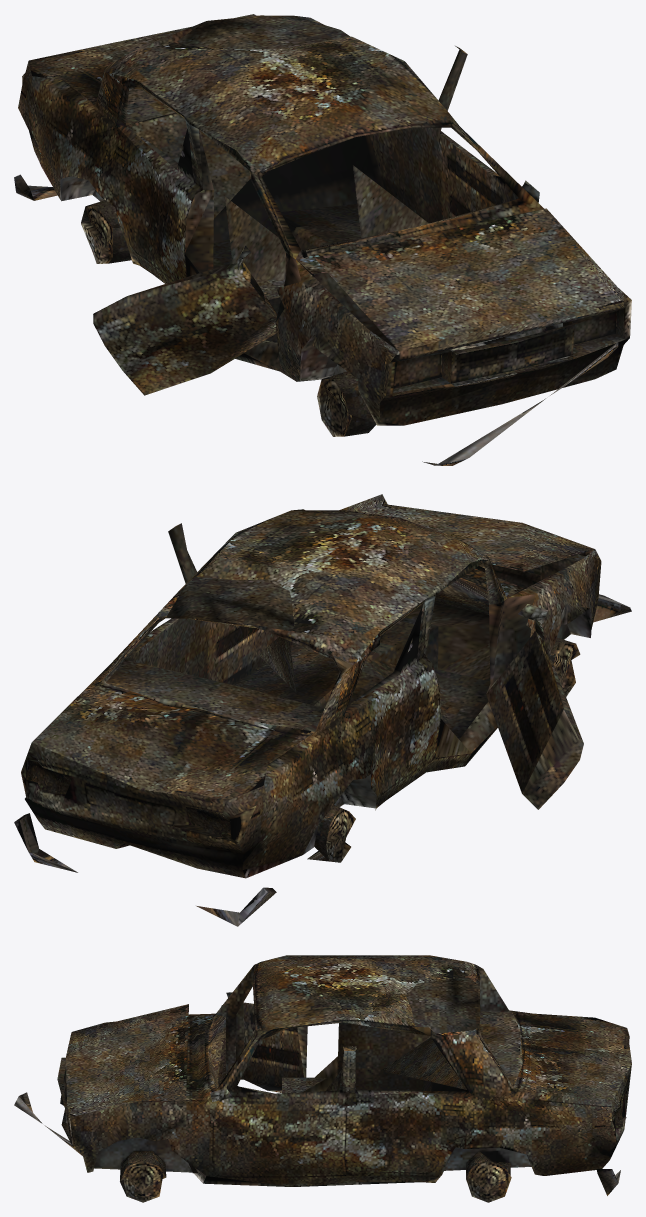
Rendered from car2_LOD1.FBX.
3 views of the same model, one above another, from view 1: azimuth 30°, elevation 25°; view 2: azimuth 150°, elevation 25°; view 3: azimuth 270°, elevation 25° (orthographic). The views are drawn at different scales.
Visible parts, largest first — view 1: car2; view 2: car2; view 3: car2.
Part boxes in pixels (x1,y1,x2,y2): car2: (14,14,631,465); car2: (14,494,631,926); car2: (14,955,631,1202).
Bounding box in the file's own units: 27.85 × 16.63 × 50.73.
Materials: 1 (1 with a texture image).
